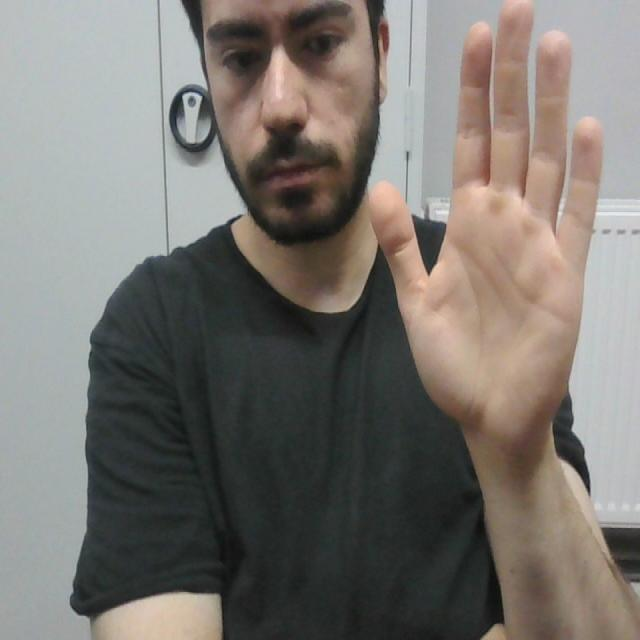Dur: (374, 0, 603, 446)
